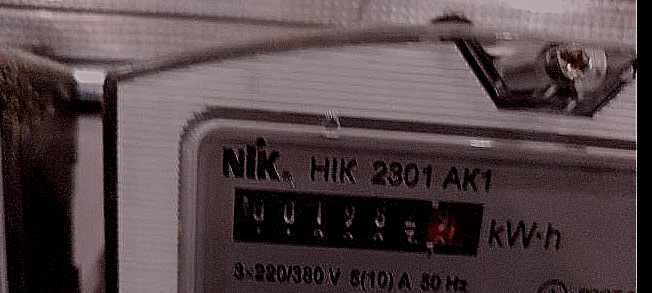0: (280, 196, 297, 225), (250, 193, 266, 222)
1: (312, 196, 324, 225)
2: (402, 199, 420, 228)
8: (372, 200, 388, 228)
9: (433, 205, 453, 233), (341, 199, 356, 228)
screen: (216, 173, 497, 269)
